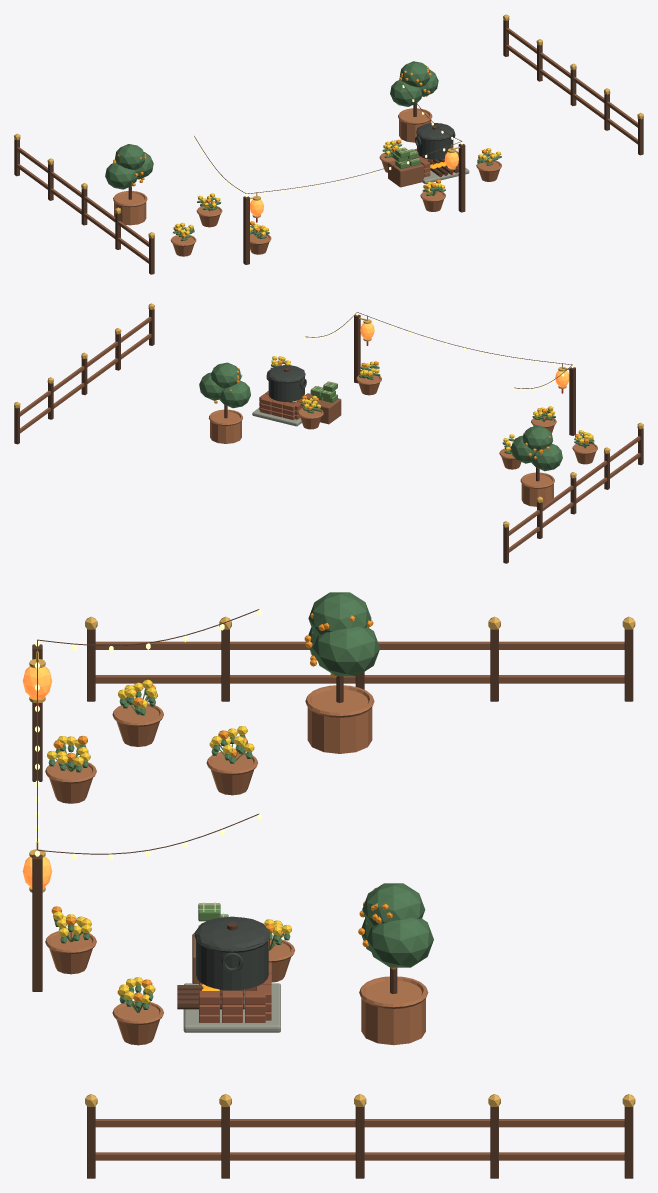
The model's file is tet-courtyard.glb.
3 views of the same model, one above another, from view 1: azimuth 30°, elevation 25°; view 2: azimuth 150°, elevation 25°; view 3: azimuth 270°, elevation 25° (orthographic). The views are drawn at different scales.
Visible parts, largest first — view 1: Kumquat clay planter.004, Garden fence rail.011, Garden fence rail.008, Garden fence rail.009, Garden fence rail.010, Banh chung wooden crate.002, Kumquat leaf crown.012, Kumquat leaf crown.015, BanhChungPot iron body.002, Kumquat leaf crown.014, Kumquat clay planter.005, Kumquat leaf crown.017 (+3 smaller); view 2: Kumquat clay planter.005, Kumquat clay planter.004, Garden fence rail.011, Garden fence rail.008, Garden fence rail.009, Garden fence rail.010, BanhChungPot iron body.002, Kumquat leaf crown.015, Kumquat leaf crown.012, Kumquat leaf crown.017, Kumquat leaf crown.014, Pot domed lid.002 (+5 smaller); view 3: Garden fence rail.010, Garden fence rail.011, Garden fence rail.008, Garden fence rail.009, Kumquat clay planter.004, Kumquat clay planter.005, Kumquat leaf crown.013, Kumquat leaf crown.016, BanhChungPot iron body.002, Kumquat leaf crown.014, Kumquat leaf crown.017, Pot domed lid.002 (+10 smaller).
Part boxes in pixels (bbox=[...]): Kumquat clay planter.004: bbox=[114, 193, 146, 225]; Garden fence rail.011: bbox=[506, 28, 637, 127]; Garden fence rail.008: bbox=[17, 164, 148, 263]; Garden fence rail.009: bbox=[17, 147, 148, 246]; Garden fence rail.010: bbox=[506, 44, 637, 144]; Banh chung wooden crate.002: bbox=[388, 160, 423, 187]; Kumquat leaf crown.012: bbox=[105, 163, 137, 189]; Kumquat leaf crown.015: bbox=[390, 80, 422, 106]; BanhChungPot iron body.002: bbox=[417, 135, 453, 159]; Kumquat leaf crown.014: bbox=[115, 144, 144, 169]; Kumquat clay planter.005: bbox=[399, 110, 431, 142]; Kumquat leaf crown.017: bbox=[399, 61, 429, 87]; Kumquat clay planter.005: bbox=[210, 411, 241, 443]; Kumquat clay planter.004: bbox=[521, 474, 553, 506]; Garden fence rail.011: bbox=[20, 317, 151, 416]; Garden fence rail.008: bbox=[509, 453, 640, 552]; Garden fence rail.009: bbox=[509, 436, 640, 535]; Garden fence rail.010: bbox=[20, 333, 151, 433]; BanhChungPot iron body.002: bbox=[268, 377, 304, 401]; Kumquat leaf crown.015: bbox=[219, 380, 250, 408]; Kumquat leaf crown.012: bbox=[531, 443, 562, 471]; Kumquat leaf crown.017: bbox=[211, 362, 241, 388]; Kumquat leaf crown.014: bbox=[522, 425, 552, 451]; Pot domed lid.002: bbox=[268, 365, 305, 381]; Garden fence rail.010: bbox=[95, 1152, 624, 1160]; Garden fence rail.011: bbox=[95, 1119, 624, 1127]; Garden fence rail.008: bbox=[95, 675, 624, 683]; Garden fence rail.009: bbox=[95, 641, 624, 649]; Kumquat clay planter.004: bbox=[307, 689, 372, 753]; Kumquat clay planter.005: bbox=[361, 980, 425, 1045]; Kumquat leaf crown.013: bbox=[313, 626, 380, 676]; Kumquat leaf crown.016: bbox=[367, 917, 433, 967]; BanhChungPot iron body.002: bbox=[196, 940, 268, 990]; Kumquat leaf crown.014: bbox=[308, 592, 371, 636]; Kumquat leaf crown.017: bbox=[362, 883, 425, 927]; Pot domed lid.002: bbox=[194, 916, 270, 948].
Bounding box in the file's own units: 17 × 2.86 × 9.11.
